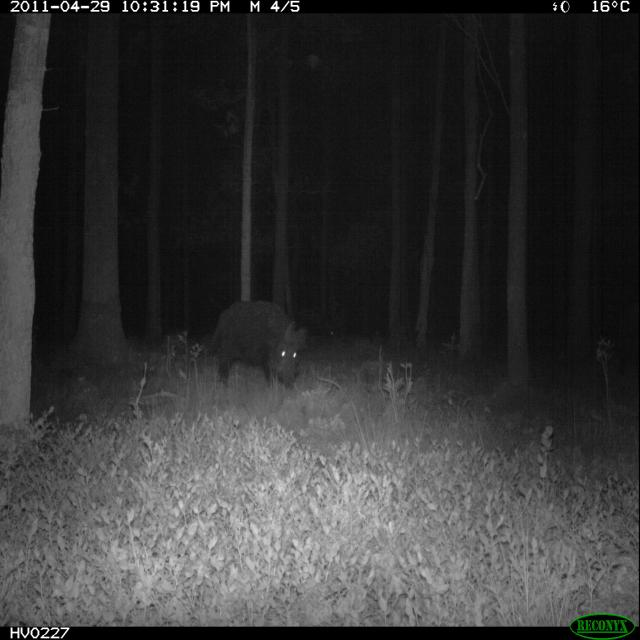boar: (186, 270, 321, 420)
